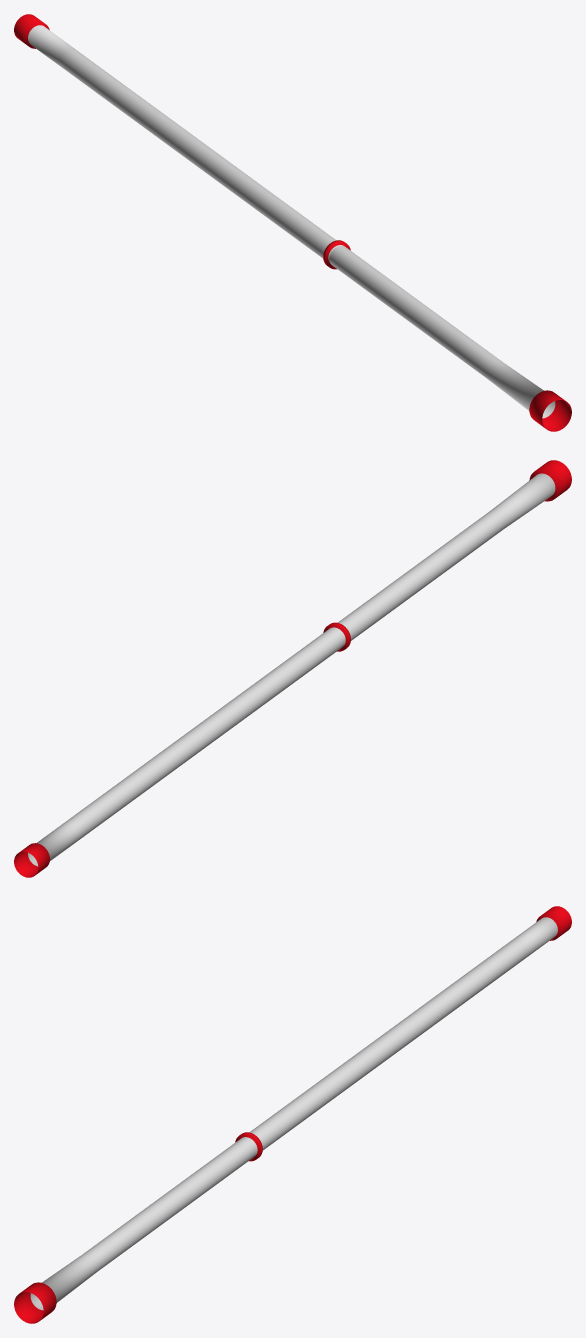
The model's file is Pipe.2.fbx.
3 renders of one model, top to bottom at view 1: azimuth 30°, elevation 25°; view 2: azimuth 150°, elevation 25°; view 3: azimuth 330°, elevation 25°, orthographic.
Parts seen in each view (by area): view 1: Cylinder.001; view 2: Cylinder.001; view 3: Cylinder.001.
Boxes of the visible parts, x1,y1,x2,y2 form: Cylinder.001: [14, 14, 571, 431]; Cylinder.001: [14, 460, 571, 877]; Cylinder.001: [14, 906, 571, 1323].
Size of the model in its own units: 90.54 by 90.54 by 2800.
